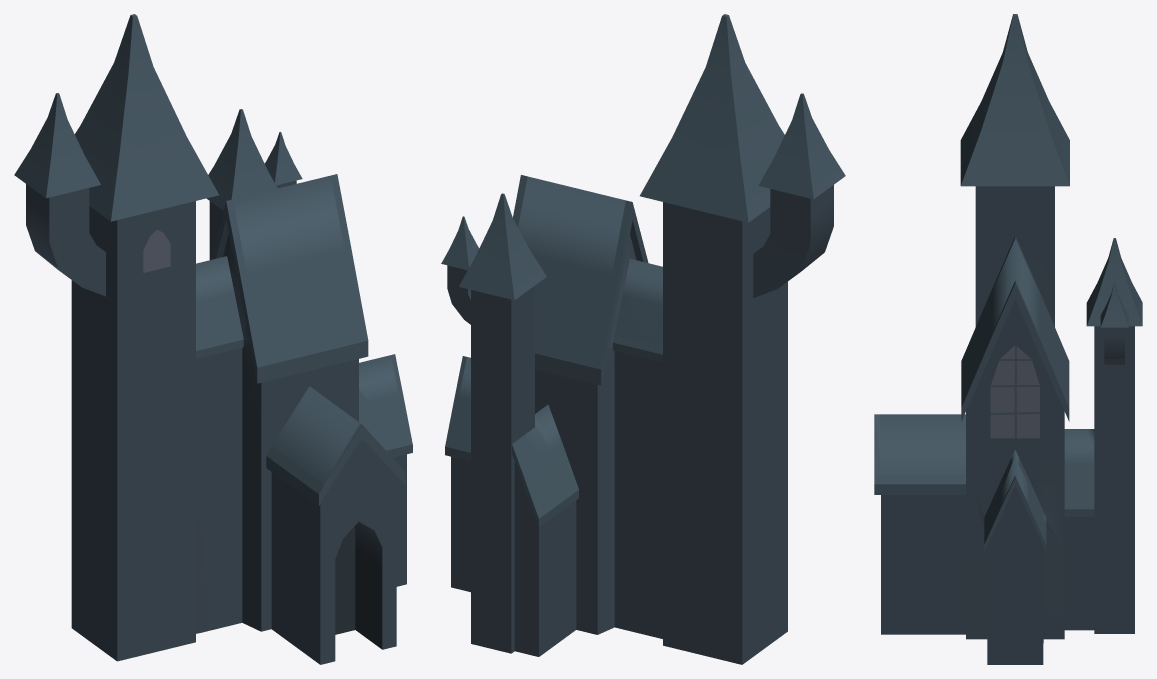
The model's file is Castle.fbx.
3 renders of one model, left to right at view 1: azimuth 30°, elevation 25°; view 2: azimuth 150°, elevation 25°; view 3: azimuth 270°, elevation 25°, orthographic. The views are drawn at different scales.
Parts seen in each view (by area): view 1: CASTLE; view 2: CASTLE; view 3: CASTLE.
Boxes of the visible parts, left/top/right/bottom form: CASTLE: left=14, top=14, right=412, bottom=664; CASTLE: left=441, top=14, right=845, bottom=664; CASTLE: left=874, top=14, right=1142, bottom=664.
Bounding box in the file's own units: 46.39 × 75.27 × 33.9.
Materials: 1 (1 with a texture image).
